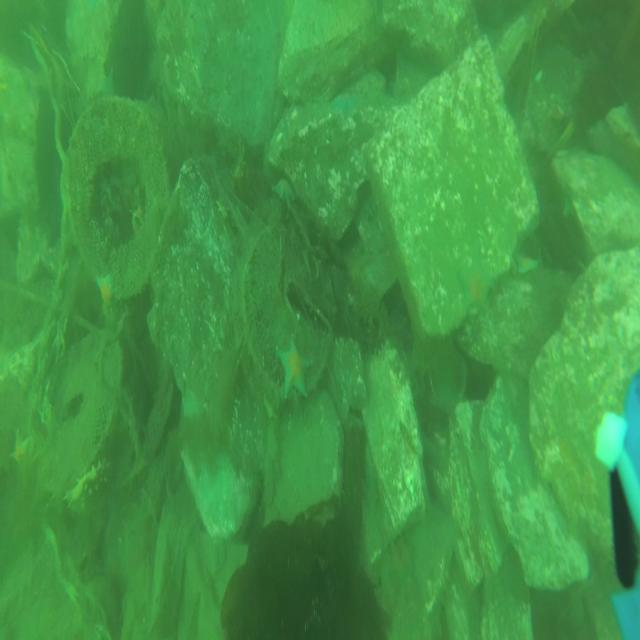starfish: (459, 242, 497, 315), (273, 336, 315, 401), (328, 87, 362, 121), (93, 271, 120, 308), (271, 175, 296, 208), (514, 250, 542, 279)
